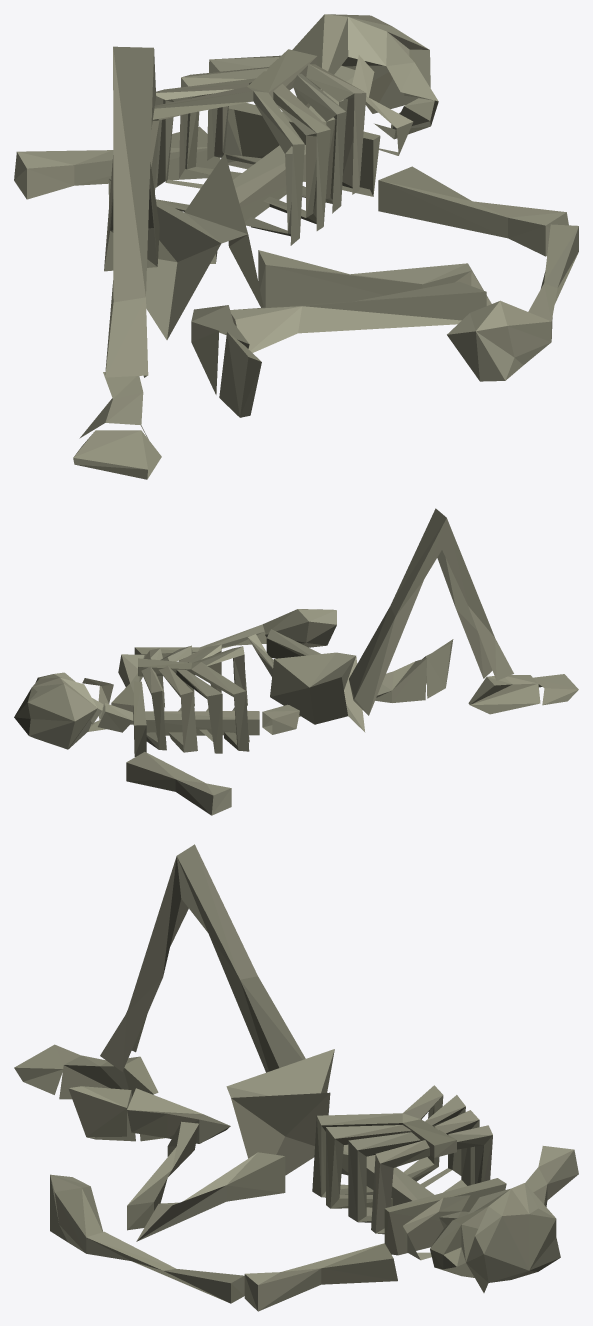
The model's file is dskelly1.fbx.
The picture shows the model from 3 angles, top to bottom: view 1: azimuth 30°, elevation 25°; view 2: azimuth 150°, elevation 25°; view 3: azimuth 270°, elevation 25°; orthographic projection. The views are drawn at different scales.
Visible parts, largest first — view 1: Object Skeleton 2024-03-16_08-25-40; view 2: Object Skeleton 2024-03-16_08-25-40; view 3: Object Skeleton 2024-03-16_08-25-40.
Boxes of the visible parts, x1,y1,x2,y2 form: Object Skeleton 2024-03-16_08-25-40: [14, 14, 578, 479]; Object Skeleton 2024-03-16_08-25-40: [14, 508, 578, 815]; Object Skeleton 2024-03-16_08-25-40: [14, 844, 578, 1311].
Size of the model in its own units: 12700 by 6700 by 12500.
